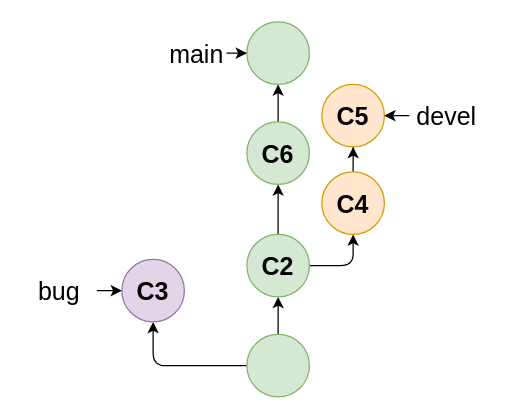
Some shapes in this 505 by 419 pixel diagram are drawn without their labels. The shapes that lost their labels are listed below. From the top down, each one's centre as x and y in pixels, then its label:
pixel 277 52: C7
pixel 277 365: C1
